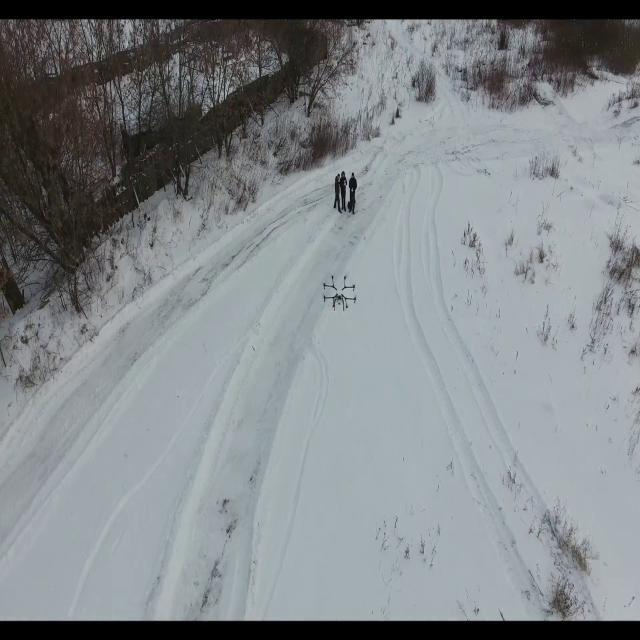Drons: (318, 270, 358, 314)
